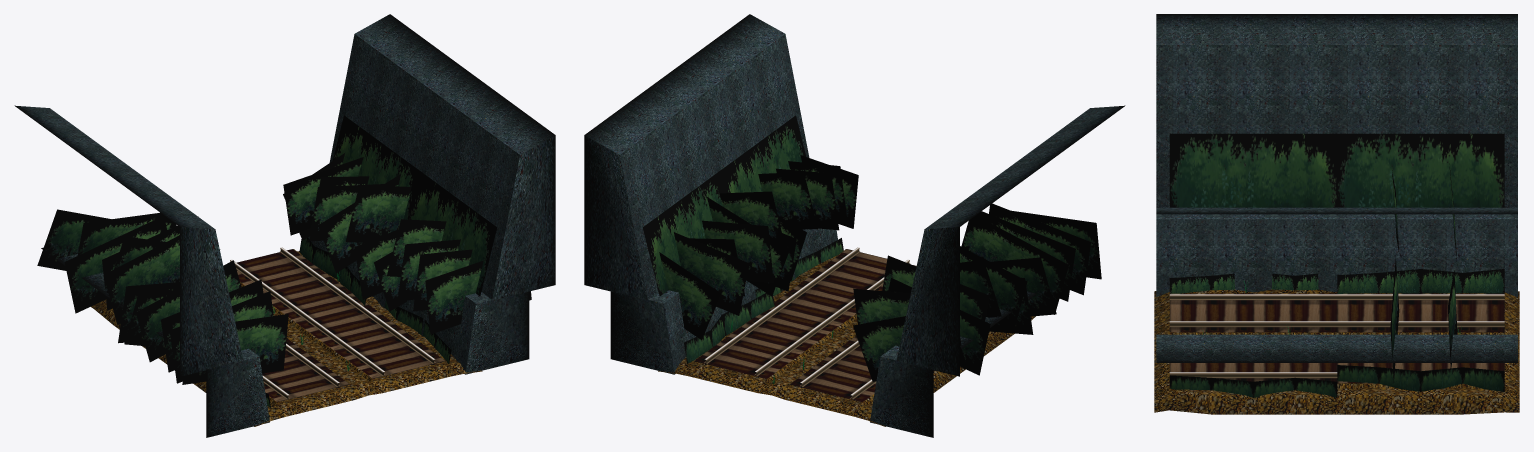
File: K_2RAIL_MNT25.glb
3 views of the same model, side by side, from view 1: azimuth 30°, elevation 25°; view 2: azimuth 150°, elevation 25°; view 3: azimuth 270°, elevation 25° (orthographic). The views are drawn at different scales.
Visible parts, largest first — view 1: glass, bone_3c, bone_7c, bone_1c, bone_5c, bone_6c, bone_4c, bone_0c, bone_2c; view 2: glass, bone_5b, bone_1b, bone_3b, bone_7b, bone_0b, bone_2b, bone_6b, bone_4b; view 3: glass, bone_2b, bone_1b.
Boxes of the visible parts, x1=… form: glass: x1=14, y1=14, x2=555, y2=437; bone_3c: x1=103, y1=174, x2=411, y2=324; bone_7c: x1=169, y1=249, x2=531, y2=384; bone_1c: x1=64, y1=157, x2=369, y2=313; bone_5c: x1=124, y1=219, x2=446, y2=362; bone_6c: x1=161, y1=239, x2=460, y2=372; bone_4c: x1=118, y1=229, x2=398, y2=343; bone_0c: x1=37, y1=153, x2=344, y2=270; bone_2c: x1=102, y1=184, x2=383, y2=310; glass: x1=584, y1=14, x2=1125, y2=437; bone_5b: x1=758, y1=172, x2=1068, y2=316; bone_1b: x1=674, y1=232, x2=990, y2=375; bone_3b: x1=707, y1=191, x2=1027, y2=331; bone_7b: x1=788, y1=155, x2=1101, y2=295; bone_0b: x1=659, y1=252, x2=966, y2=381; bone_2b: x1=702, y1=220, x2=989, y2=321; bone_6b: x1=776, y1=168, x2=1075, y2=301; bone_4b: x1=776, y1=233, x2=1033, y2=334; glass: x1=1154, y1=14, x2=1519, y2=414; bone_2b: x1=1390, y1=256, x2=1399, y2=382; bone_1b: x1=1448, y1=270, x2=1457, y2=369.
Size of the model in its own units: 35.38 by 19.73 by 27.26.
Materials: 28 (28 with a texture image).
